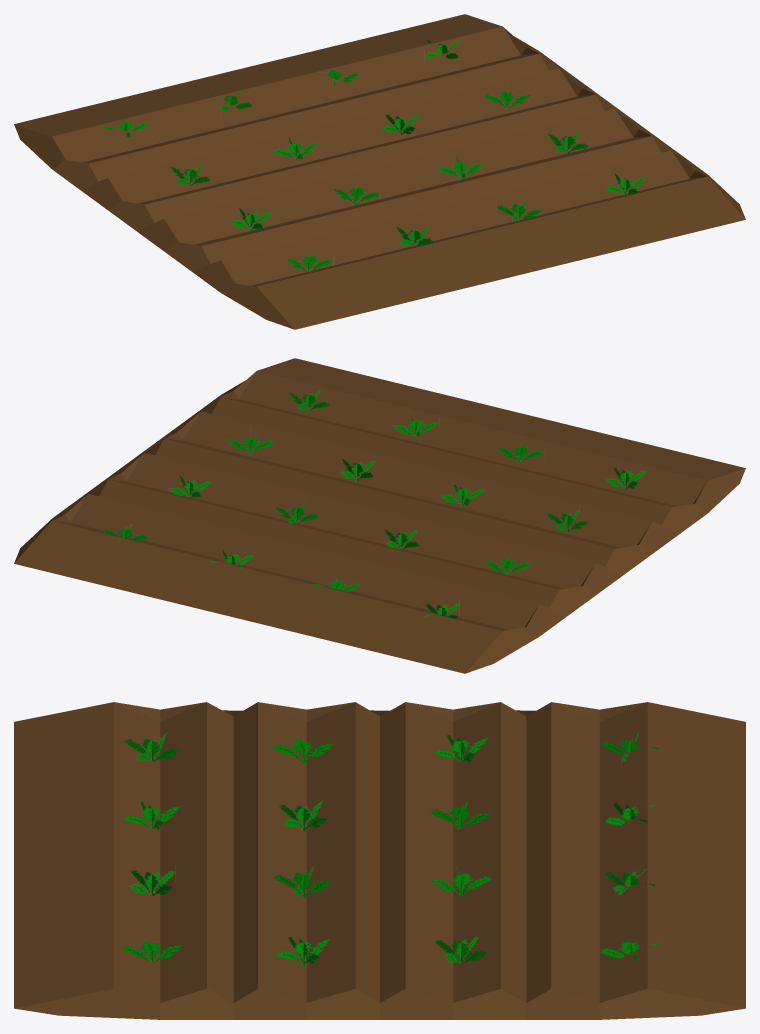
Rendered from carrot-stage1-w-Dirt.glb.
3 renders of one model, top to bottom at view 1: azimuth 30°, elevation 25°; view 2: azimuth 150°, elevation 25°; view 3: azimuth 270°, elevation 25°, orthographic. The views are drawn at different scales.
Visible parts, largest first — view 1: Soil.003, Carrot_F1; view 2: Soil.003, Carrot_F1; view 3: Soil.003, Carrot_F1.
Boxes of the visible parts, x1=… form: Soil.003: x1=14, y1=14, x2=745, y2=329; Carrot_F1: x1=102, y1=39, x2=646, y2=272; Soil.003: x1=14, y1=358, x2=745, y2=673; Carrot_F1: x1=102, y1=390, x2=646, y2=618; Soil.003: x1=14, y1=702, x2=745, y2=1019; Carrot_F1: x1=121, y1=731, x2=660, y2=965.
Size of the model in its own units: 2.5 by 0.0922 by 2.5.
2 materials, 1 textured.
